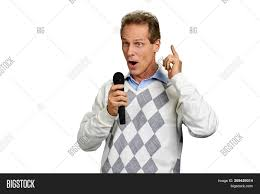white_male: (108, 5, 156, 77)
